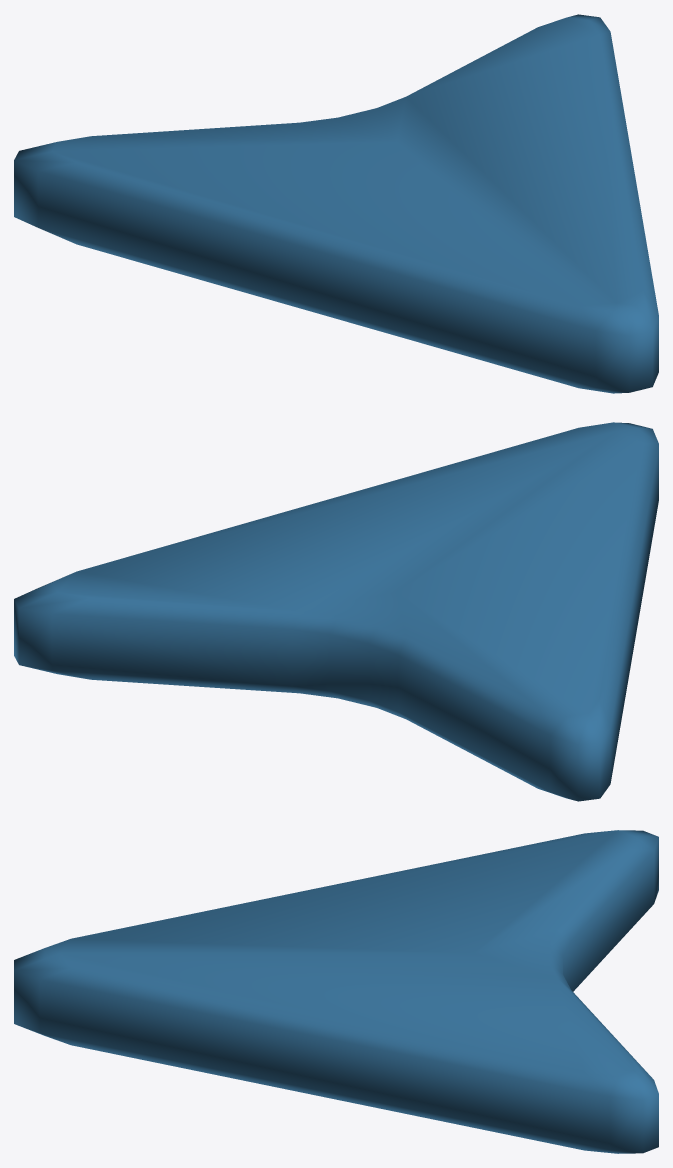
The model's file is selected_direction_indicator.glb.
The picture shows the model from 3 angles, top to bottom: view 1: azimuth 30°, elevation 25°; view 2: azimuth 150°, elevation 25°; view 3: azimuth 270°, elevation 25°; orthographic projection. The views are drawn at different scales.
Visible parts, largest first — view 1: ElligibleDirectionIndicator; view 2: ElligibleDirectionIndicator; view 3: ElligibleDirectionIndicator.
Part boxes in pixels (left/top/right/bottom): ElligibleDirectionIndicator: left=14, top=14, right=658, bottom=393; ElligibleDirectionIndicator: left=14, top=422, right=658, bottom=801; ElligibleDirectionIndicator: left=14, top=830, right=658, bottom=1153.
Size of the model in its own units: 0.7633 by 0.1019 by 0.7723.
